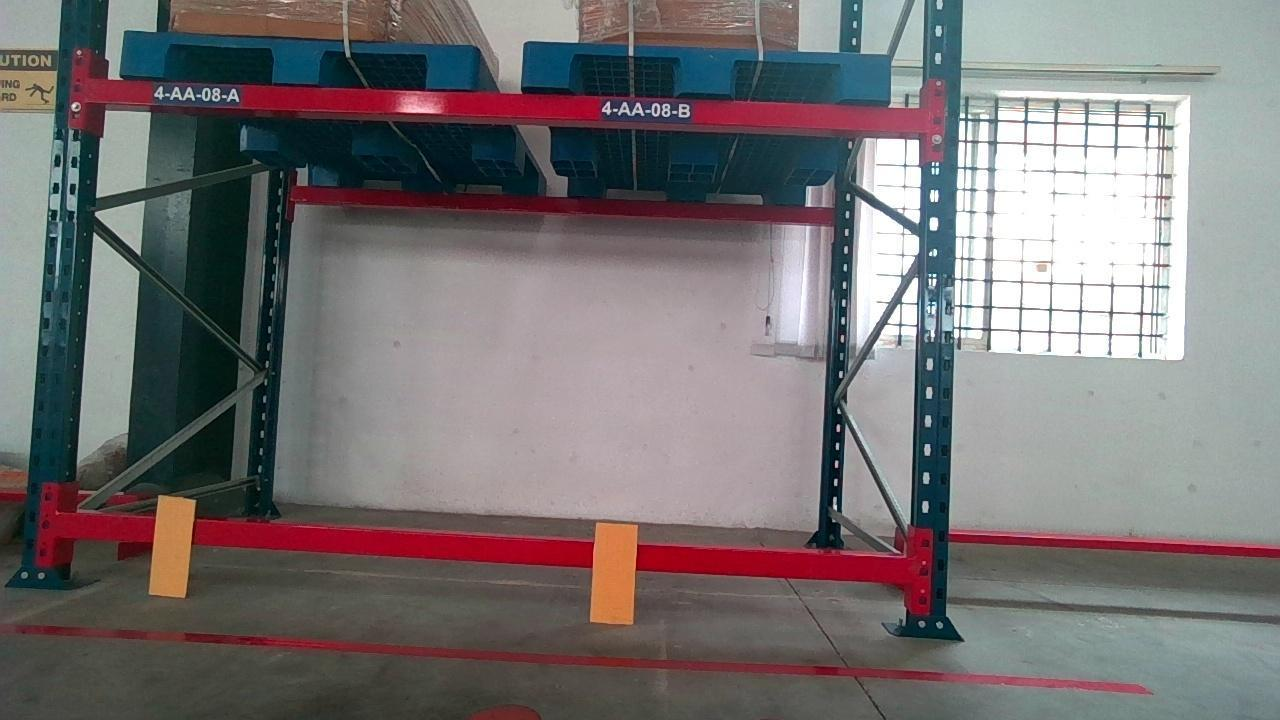h_rack: (53, 510, 919, 584), (89, 81, 935, 139)
orange_strip: (590, 521, 636, 622), (148, 494, 193, 594)
red_line: (0, 620, 1147, 696)
small_pallet: (522, 40, 902, 98), (119, 35, 476, 84)
